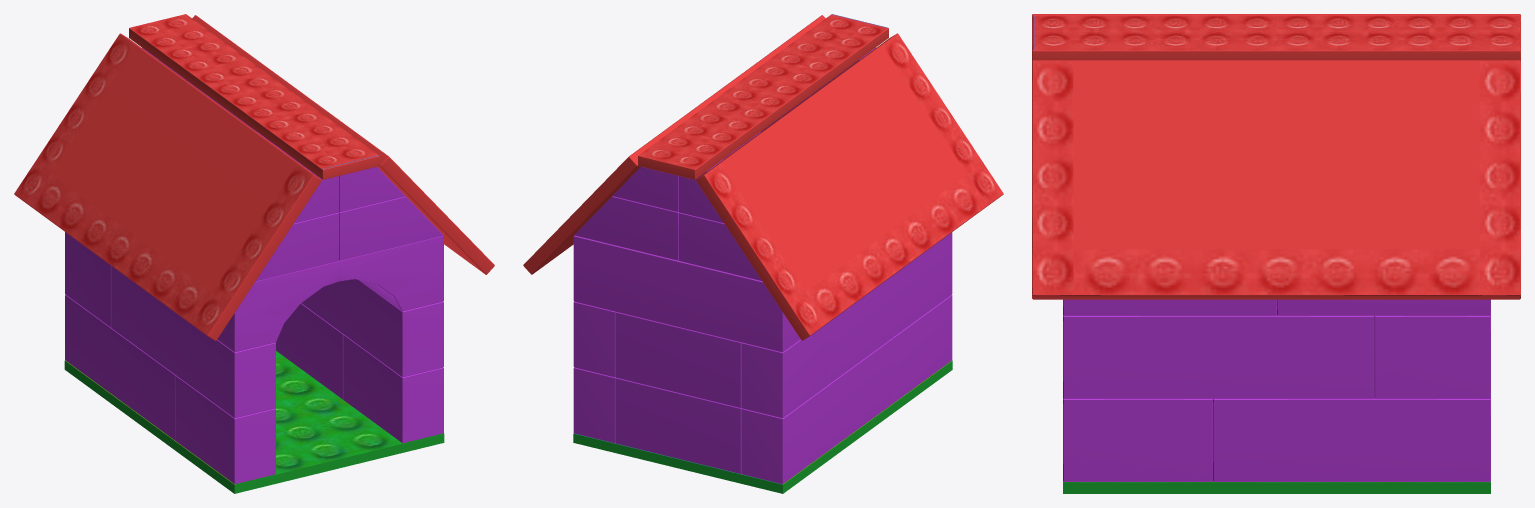
File: dog_house.fbx
The picture shows the model from 3 angles, left to right: view 1: azimuth 30°, elevation 25°; view 2: azimuth 150°, elevation 25°; view 3: azimuth 270°, elevation 25°; orthographic projection. The views are drawn at different scales.
Visible parts, largest first — view 1: dog_house; view 2: dog_house; view 3: dog_house.
Part boxes in pixels (left/top/right/bottom): dog_house: left=14, top=14, right=494, bottom=493; dog_house: left=523, top=14, right=1003, bottom=493; dog_house: left=1032, top=14, right=1520, bottom=493.
Bounding box in the file's own units: 4.55 × 4.76 × 5.32.
